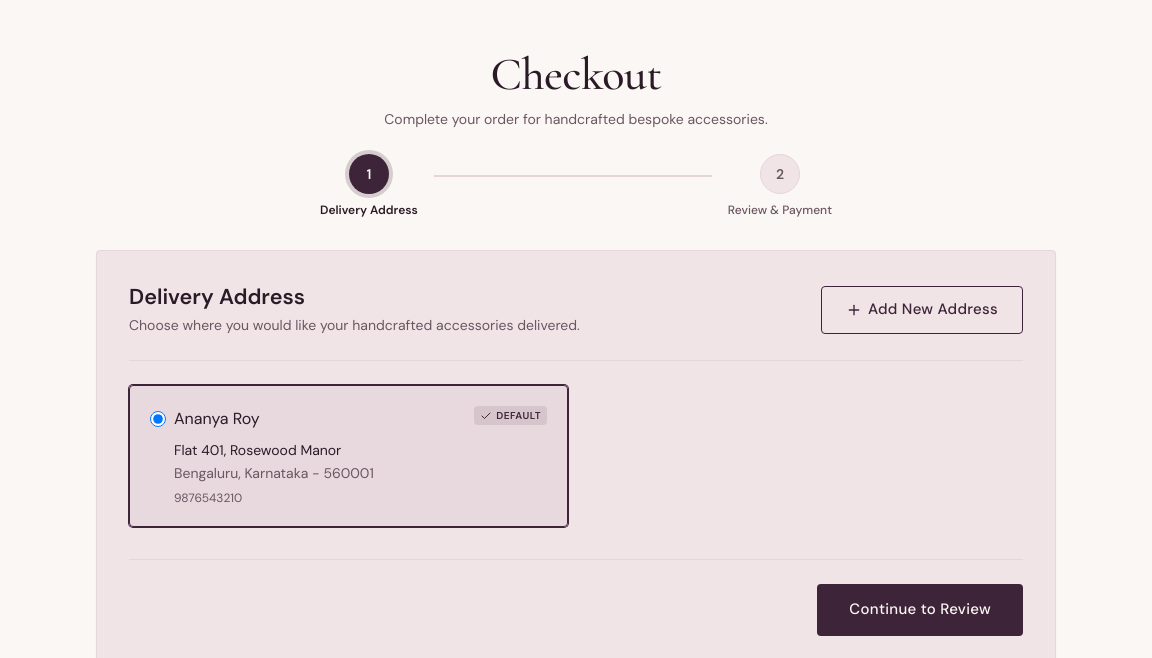
FE-29: Checkout flow › Order Review, Pricing, and Payment Handoff › blocks checkout and disables Pay button when an item is unavailable or has price notices
Step 1. Click the button with test id "continue-to-review-btn" → coordinates (920, 610), box [817, 584, 1023, 636]
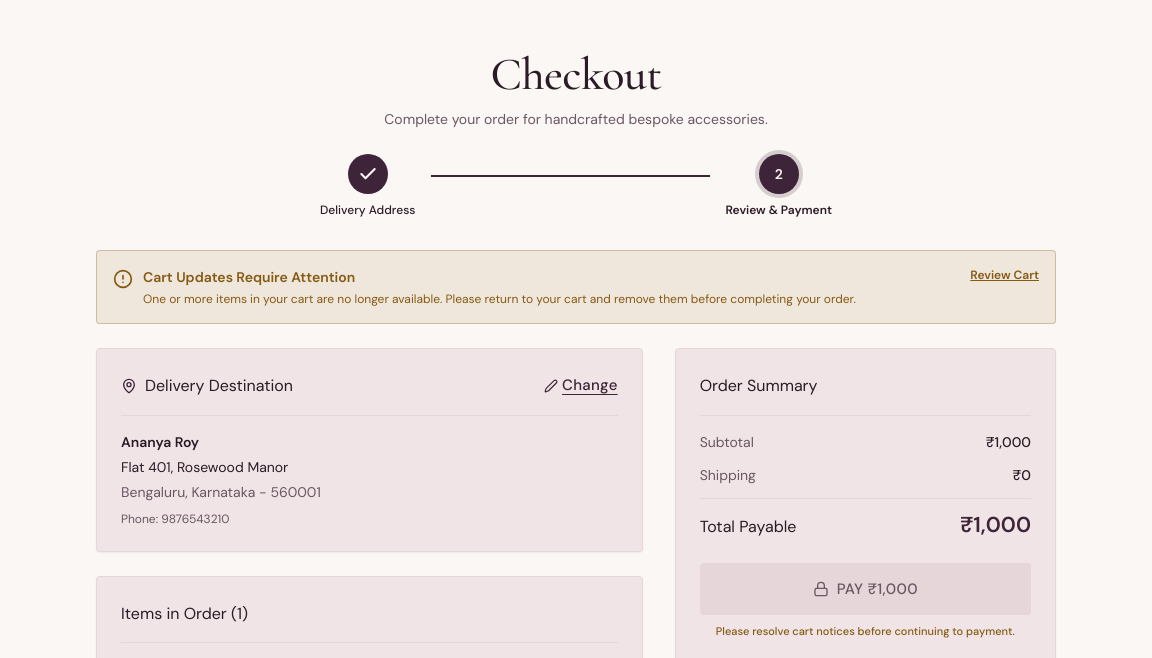
Now the message with test id "checkout-blocking-notice" is shown, box [96, 250, 1056, 324]
Now the button with test id "checkout-pay-btn" is disabled, box [700, 563, 1031, 615]
